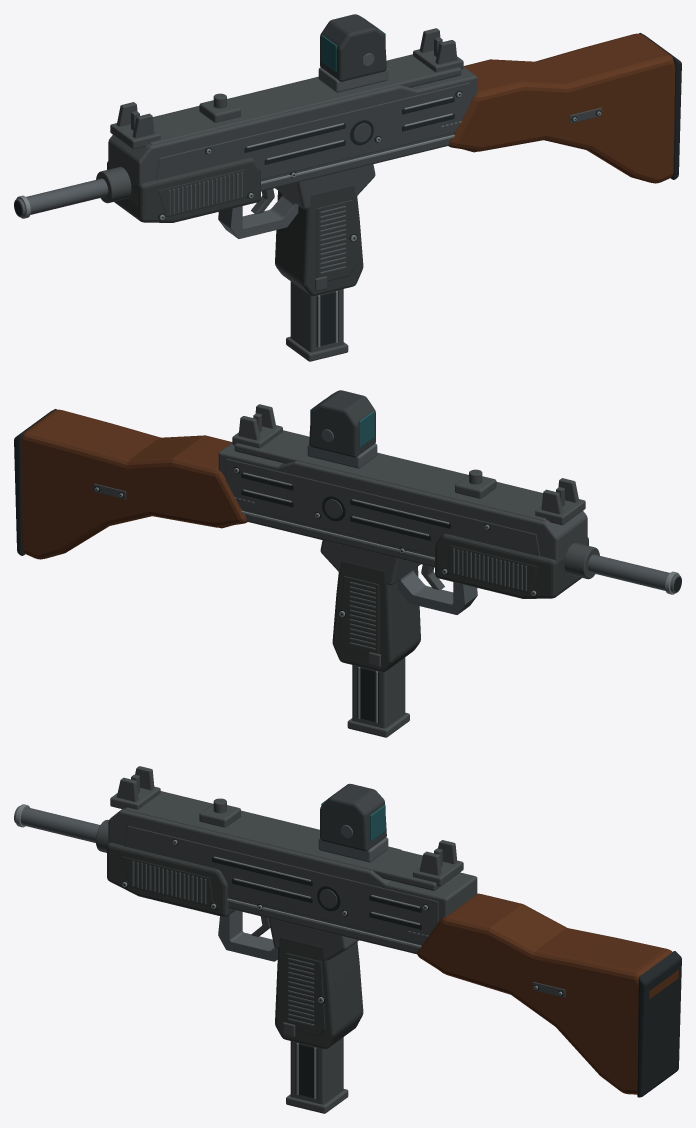
Rendered from uzi.glb.
3 views of the same model, one above another, from view 1: azimuth 30°, elevation 25°; view 2: azimuth 150°, elevation 25°; view 3: azimuth 330°, elevation 25° (orthographic).
Parts seen in each view (by area): view 1: part_receiver_surfaces, part_stock_surfaces, part_grip_surfaces, part_handguard_surfaces, part_optic_surfaces, part_magazine_surfaces, part_sights_surfaces, part_muzzle_surfaces; view 2: part_receiver_surfaces, part_stock_surfaces, part_grip_surfaces, part_handguard_surfaces, part_optic_surfaces, part_magazine_surfaces, part_sights_surfaces, part_muzzle_surfaces; view 3: part_stock_surfaces, part_receiver_surfaces, part_grip_surfaces, part_handguard_surfaces, part_optic_surfaces, part_magazine_surfaces, part_sights_surfaces, part_muzzle_surfaces.
Boxes of the visible parts, box(x1,y1,x2,y2) form: part_receiver_surfaces: box(108, 54, 477, 205); part_stock_surfaces: box(448, 33, 681, 183); part_grip_surfaces: box(218, 164, 375, 295); part_handguard_surfaces: box(107, 158, 260, 222); part_optic_surfaces: box(318, 14, 388, 92); part_magazine_surfaces: box(286, 281, 348, 361); part_sights_surfaces: box(110, 28, 463, 149); part_muzzle_surfaces: box(14, 167, 131, 218); part_receiver_surfaces: box(218, 430, 587, 575); part_stock_surfaces: box(14, 409, 247, 559); part_grip_surfaces: box(320, 540, 477, 671); part_handguard_surfaces: box(435, 534, 588, 598); part_optic_surfaces: box(307, 390, 377, 468); part_magazine_surfaces: box(347, 657, 409, 737); part_sights_surfaces: box(232, 404, 585, 525); part_muzzle_surfaces: box(564, 543, 681, 594); part_stock_surfaces: box(417, 893, 681, 1097); part_receiver_surfaces: box(108, 791, 477, 954); part_grip_surfaces: box(218, 910, 363, 1049); part_handguard_surfaces: box(107, 842, 235, 916); part_optic_surfaces: box(318, 783, 388, 862); part_magazine_surfaces: box(286, 1037, 348, 1113); part_sights_surfaces: box(110, 766, 463, 886); part_muzzle_surfaces: box(14, 804, 108, 852).
Size of the model in its own units: 160 by 74.95 by 17.06.
